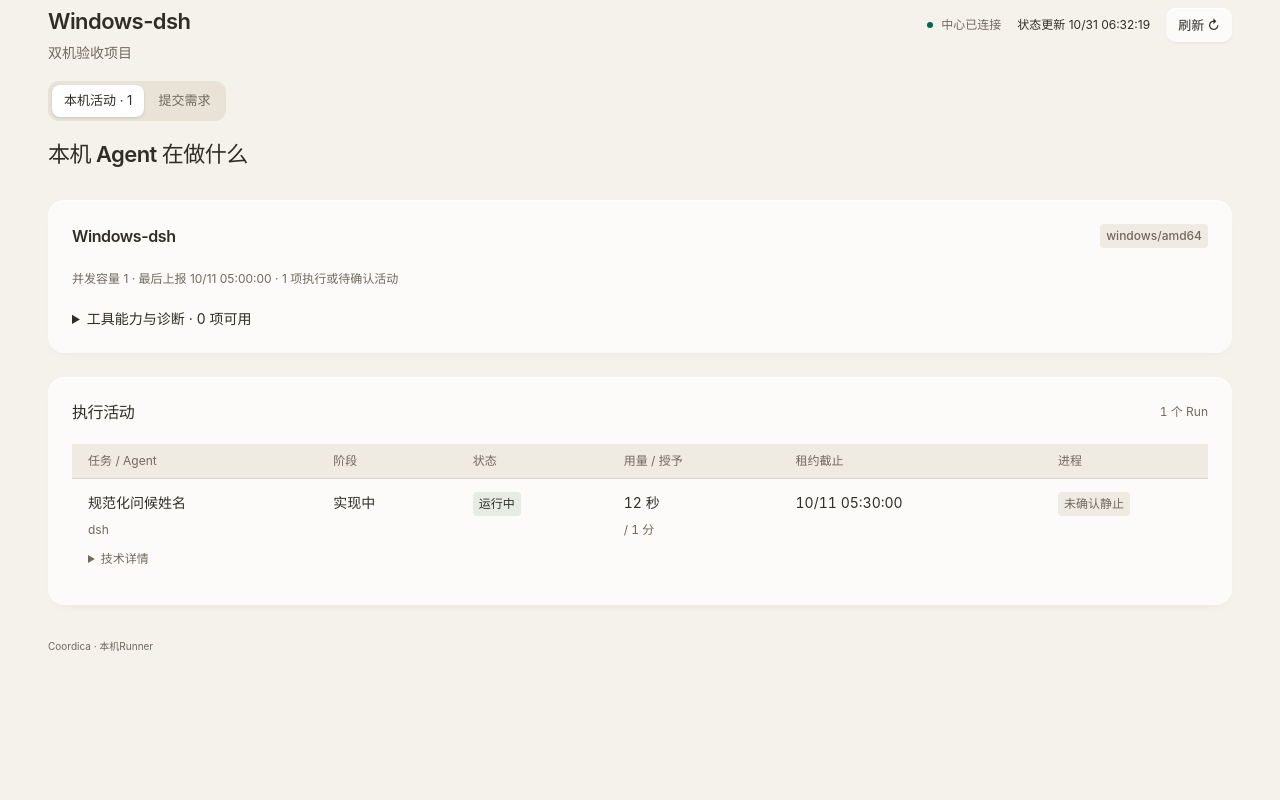
Test: local Runner workbench › keeps empty and unavailable capability reports truthful without empty version placeholders
Step 1. Click the heading "工具能力与诊断 · 0 项可用" → click(169, 318), box 87,310 -> 252,327
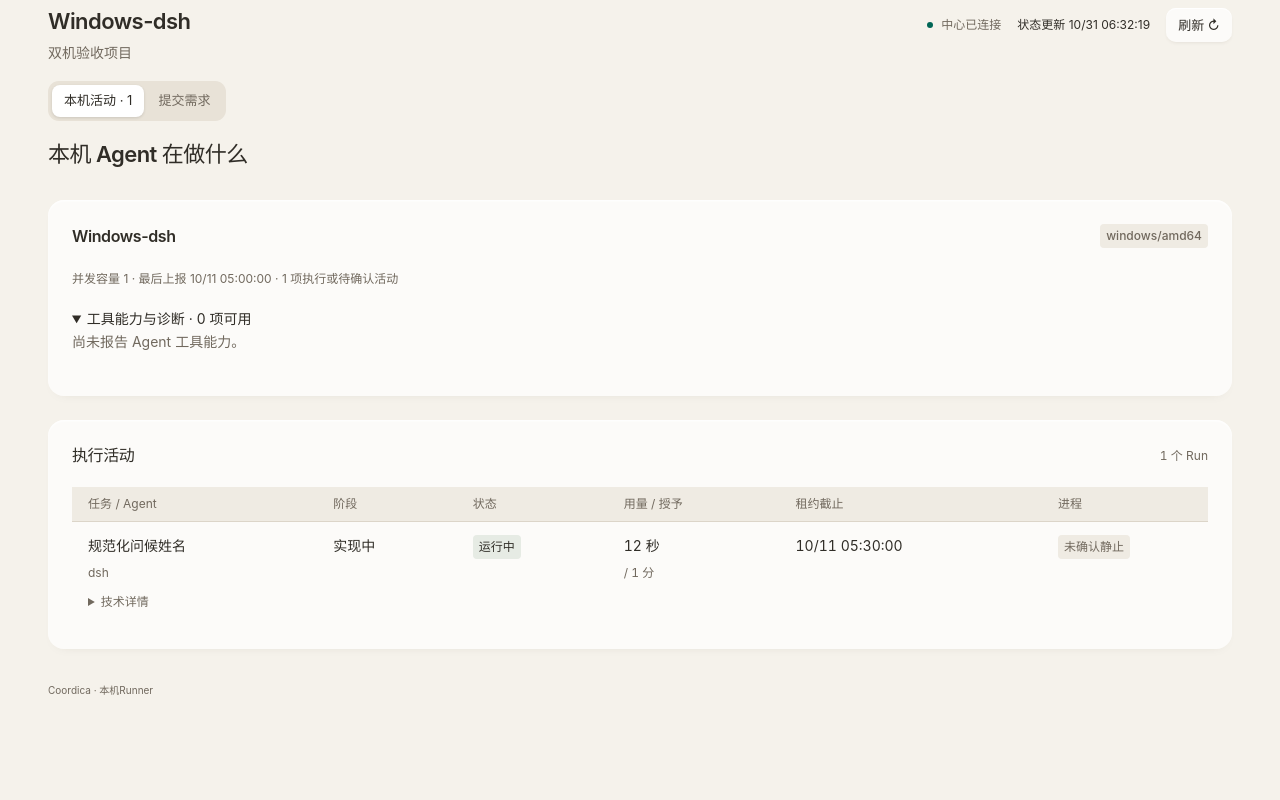
Expected: the text "尚未报告 Agent 工具能力。" is shown, 72,333 -> 245,350
Step 2. Click the button "刷新 ↻" → click(1199, 25), box 1166,8 -> 1232,42
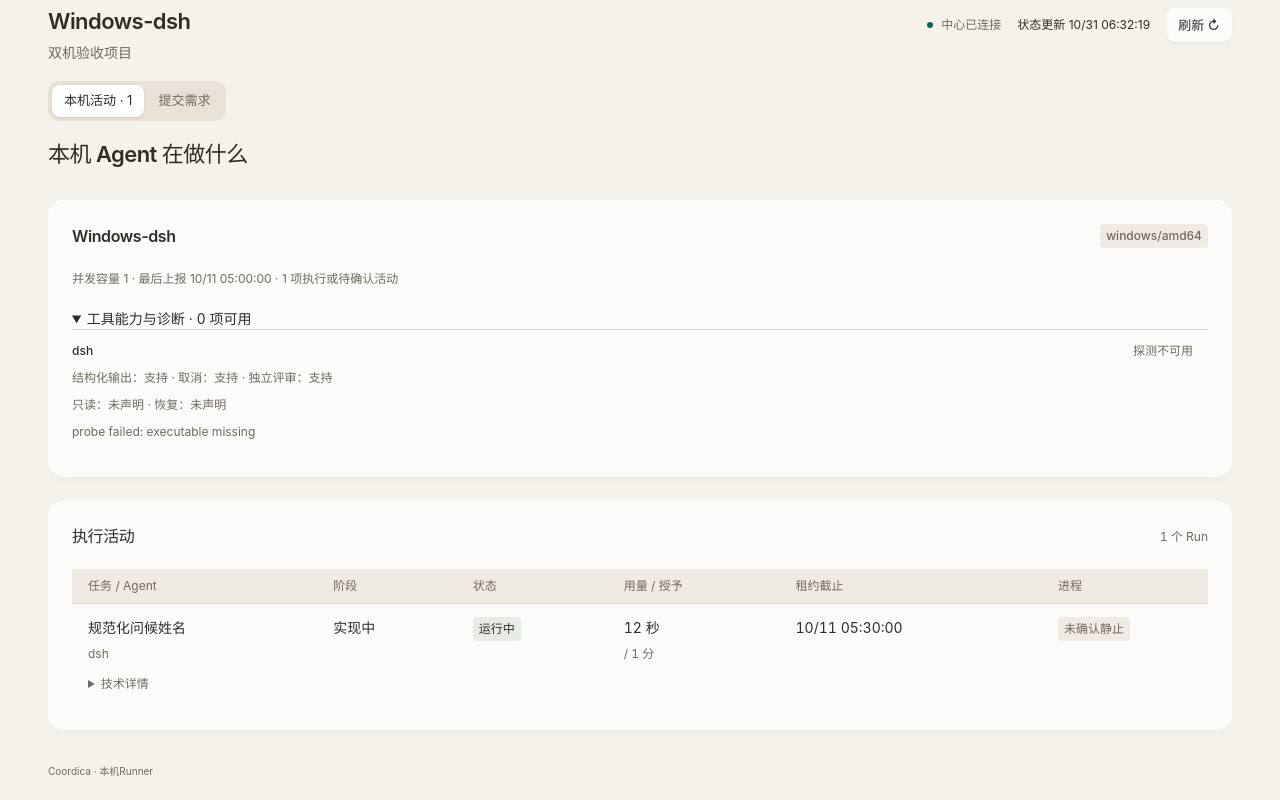
Expected: the text "规范化问候姓名" is shown, 88,618 -> 186,636
Expected: the text "probe failed: executable missing" is shown, 72,424 -> 255,439
Expected: the text "探测不可用" is shown, 1133,342 -> 1193,360
